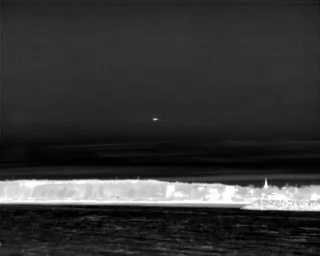BIRD: (151, 115, 160, 124)
